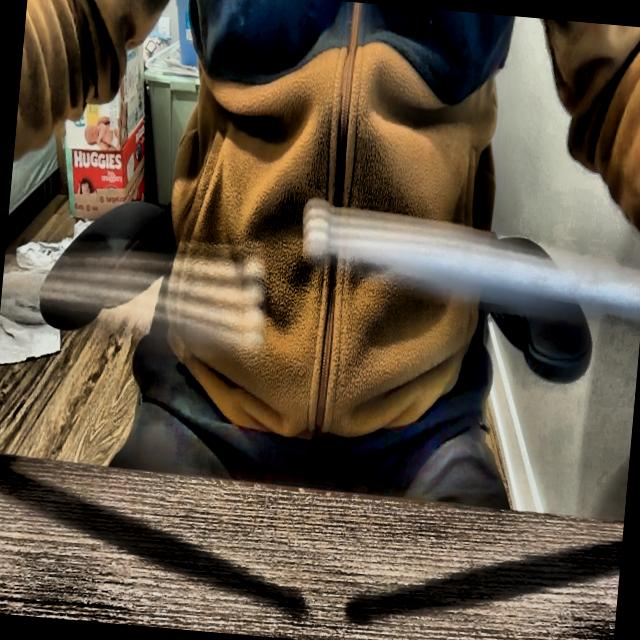Drumstick-Heads: (232, 227, 276, 355), (299, 188, 336, 264)
